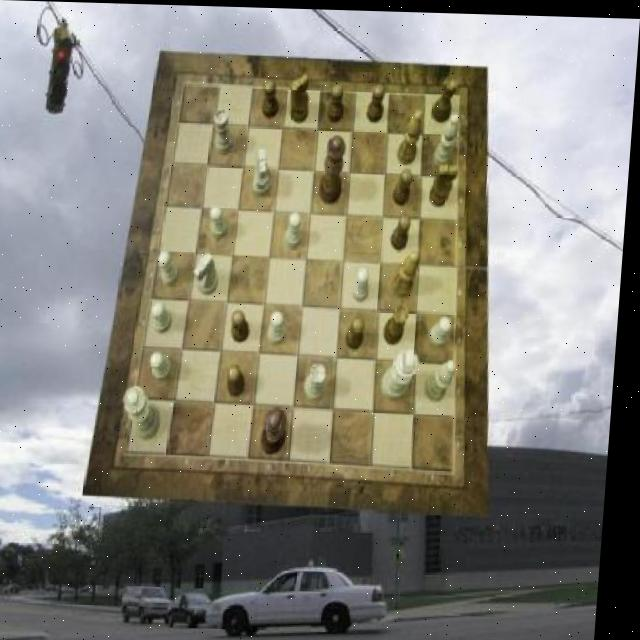bishop: (397, 106, 423, 163), (396, 248, 423, 296)
black-bishop: (266, 406, 294, 454)
black-king: (432, 161, 460, 205), (289, 73, 312, 123)
black-knight: (367, 82, 387, 121), (393, 211, 414, 247), (396, 166, 416, 203), (262, 78, 280, 117), (328, 82, 346, 120), (349, 313, 369, 347), (235, 309, 255, 342), (232, 363, 251, 396)
black-pawn: (320, 134, 348, 204)
black-queen: (433, 73, 459, 122), (388, 303, 414, 344)
black-rook: (435, 109, 462, 165), (429, 355, 461, 398)
white-bishop: (386, 346, 425, 400)
white-king: (195, 251, 222, 294), (256, 146, 277, 194)
white-knight: (160, 250, 184, 285), (155, 301, 177, 334), (211, 205, 233, 238), (286, 211, 305, 248), (272, 309, 292, 343), (154, 352, 178, 380), (356, 264, 375, 299), (434, 314, 456, 343)
white-pawn: (126, 385, 167, 441)
white-queen: (214, 108, 239, 154), (309, 361, 332, 399)
